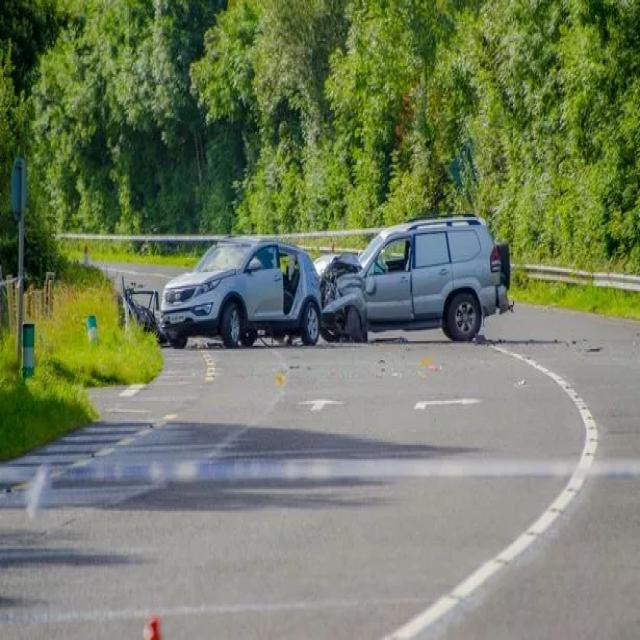car-minor-accident: (142, 180, 538, 367)
